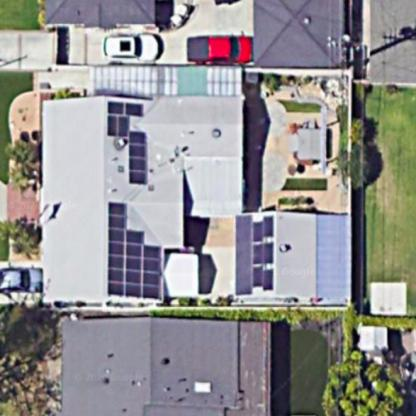car: (184, 30, 258, 67), (97, 29, 163, 67), (1, 259, 51, 301)
solar_panel: (101, 199, 171, 304), (102, 98, 160, 193), (248, 215, 279, 296)
